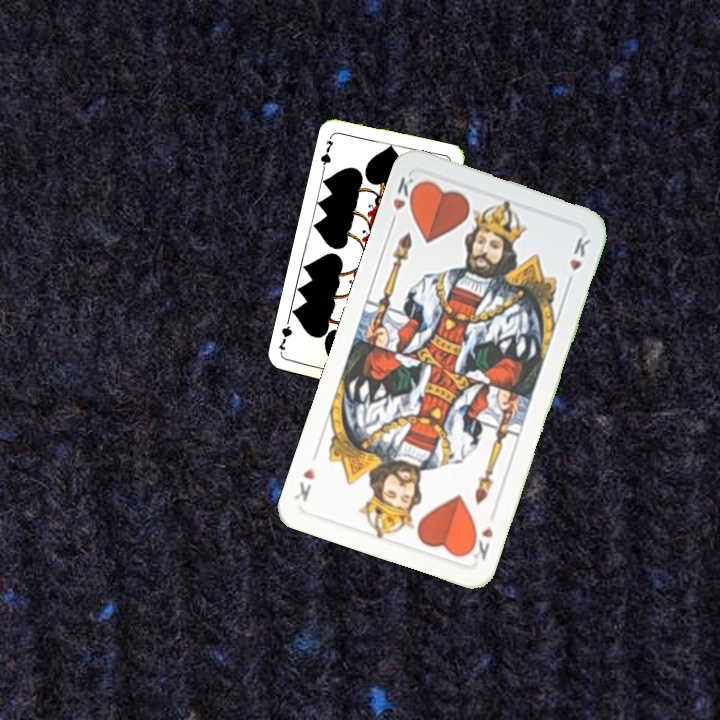G7: (316, 136, 336, 172)
HK: (386, 172, 422, 229), (463, 523, 496, 563)
